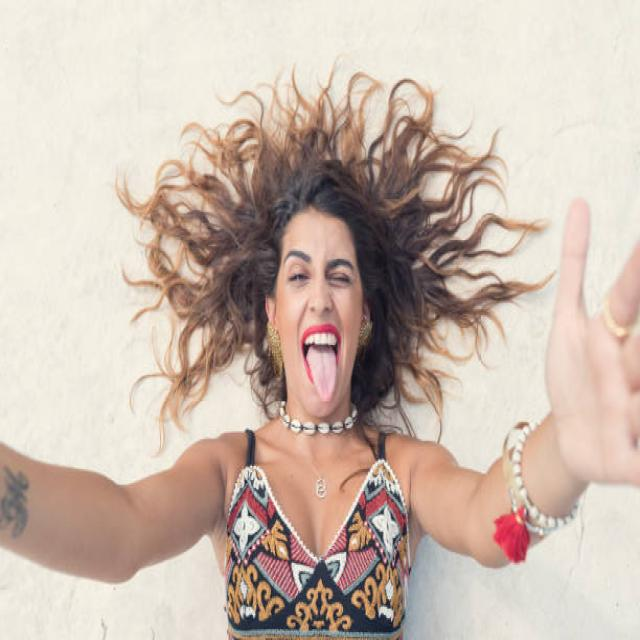tongue: (304, 346, 340, 403)
